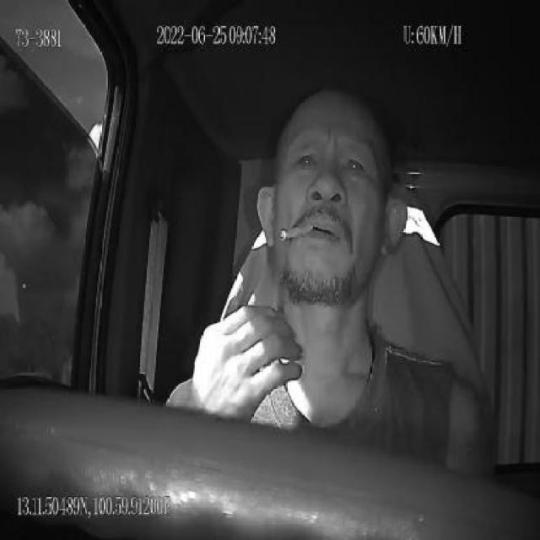smoking: (278, 222, 316, 243)
